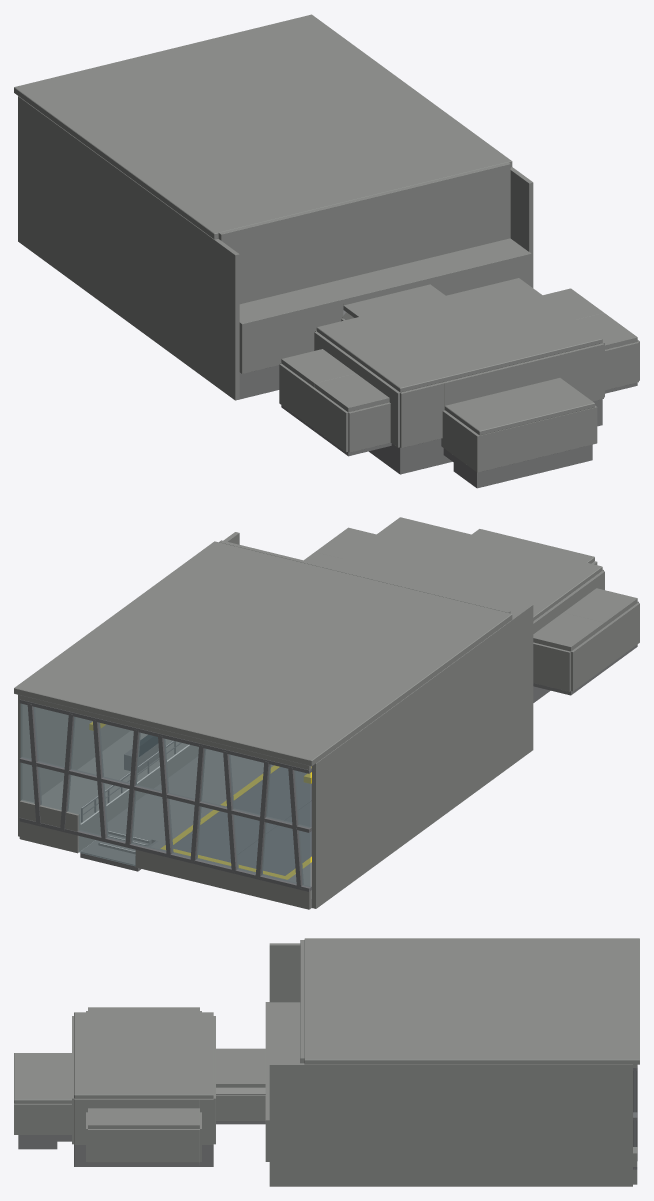
Rendered from interieur_v3.glb.
3 views of the same model, one above another, from view 1: azimuth 30°, elevation 25°; view 2: azimuth 150°, elevation 25°; view 3: azimuth 270°, elevation 25° (orthographic). The views are drawn at different scales.
Parts seen in each view (by area): view 1: Shell, Roof; view 2: Shell, Roof, Glass, Props; view 3: Shell, Roof.
Part boxes in pixels (<box>): Shell: <box>18,17,639,488</box>; Roof: <box>14,14,602,435</box>; Shell: <box>18,527,639,909</box>; Roof: <box>14,517,602,766</box>; Glass: <box>20,703,310,887</box>; Props: <box>89,722,311,783</box>; Shell: <box>14,940,637,1186</box>; Roof: <box>14,938,639,1123</box>.
Bounding box in the file's own units: 20.6 × 10.6 × 44.8.
